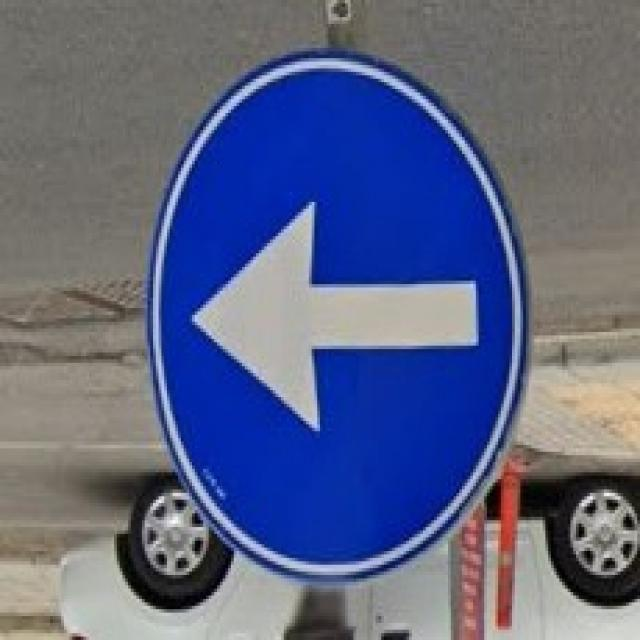Turn Left: (140, 65, 494, 575)
